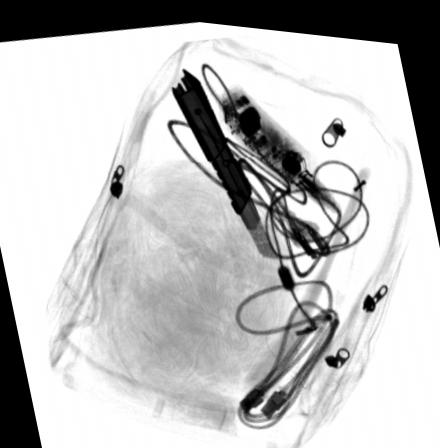Knife: (171, 62, 281, 253)
